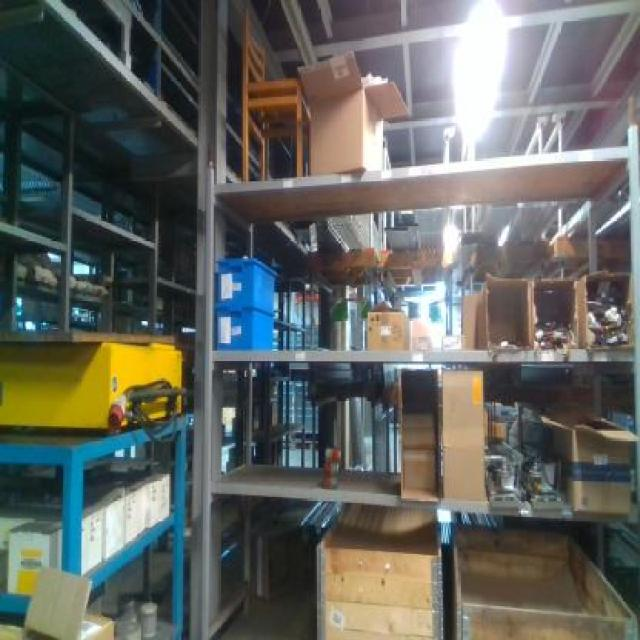ground: (213, 583, 314, 638)
pallet: (280, 429, 324, 453)
